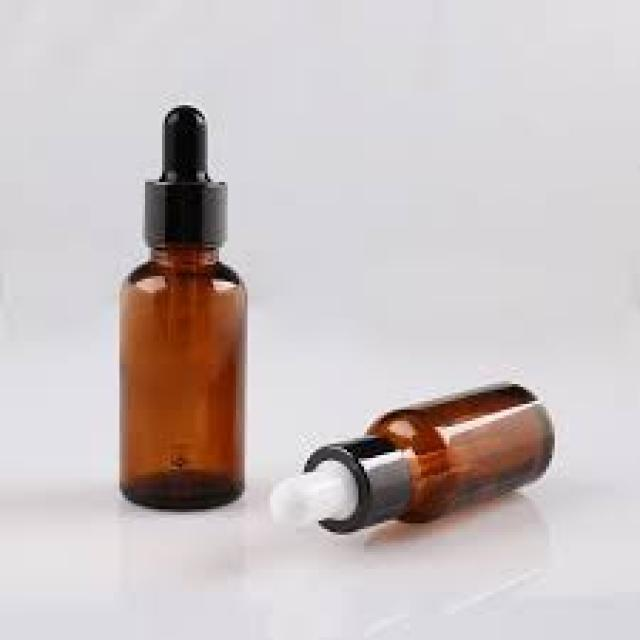Glass: (120, 249, 252, 509), (374, 381, 560, 524)
